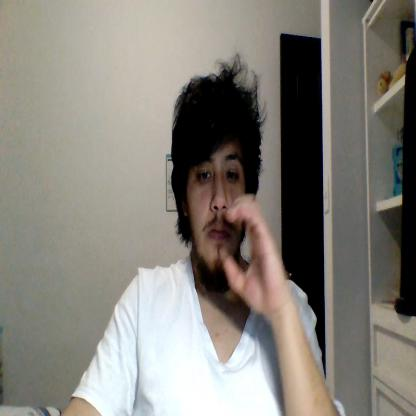C: (222, 193, 287, 316)
